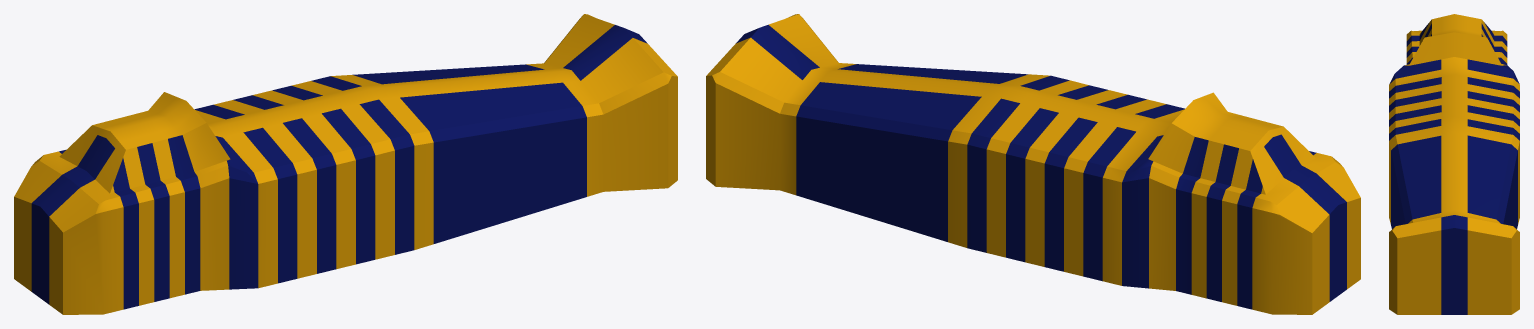
File: Vault Sarcophagus.FBX
The picture shows the model from 3 angles, left to right: view 1: azimuth 30°, elevation 25°; view 2: azimuth 150°, elevation 25°; view 3: azimuth 270°, elevation 25°; orthographic projection. The views are drawn at different scales.
Visible parts, largest first — view 1: Box006; view 2: Box006; view 3: Box006.
Boxes of the visible parts, box(x1,y1,x2,y2) form: Box006: box(14, 14, 677, 314); Box006: box(706, 14, 1360, 314); Box006: box(1389, 14, 1519, 314).
Bounding box in the file's own units: 3.91 × 1.01 × 1.
